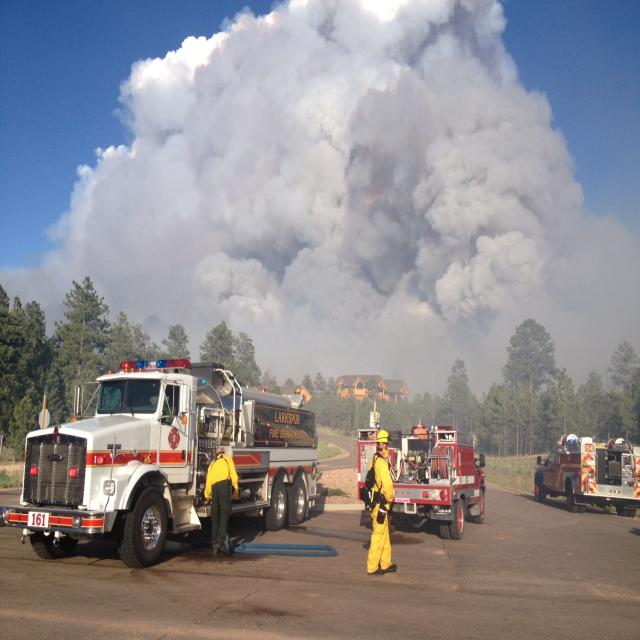Smoke: (68, 0, 611, 407)
